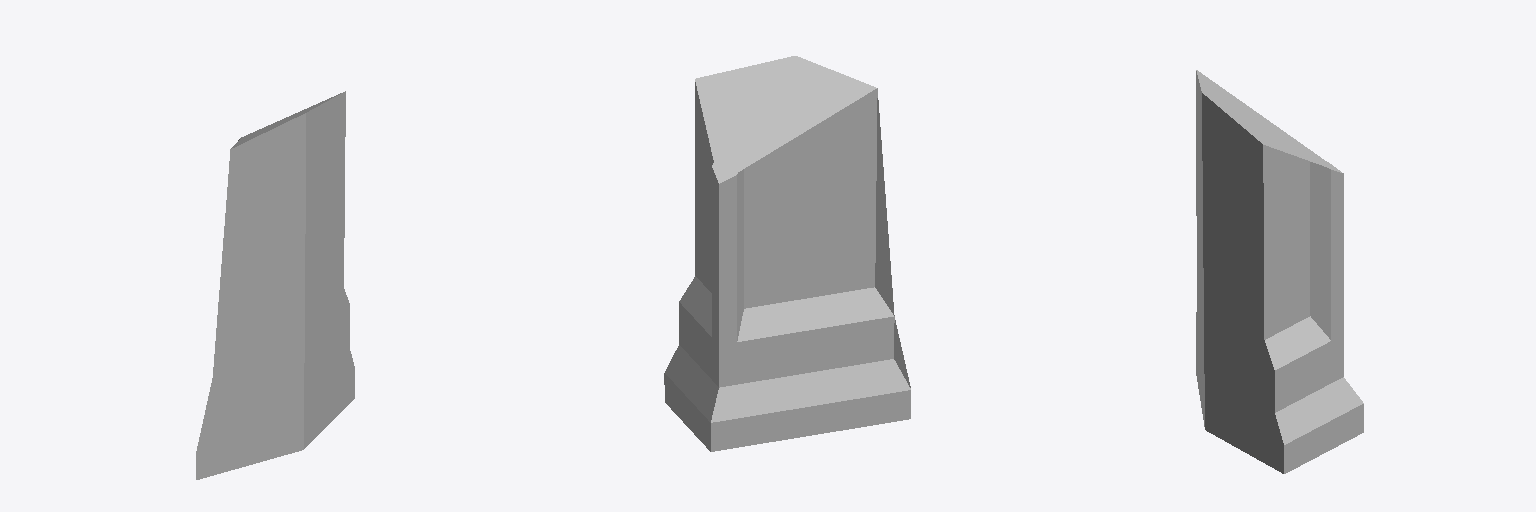
The model's file is Debris15.obj.
The picture shows the model from 3 angles: view 1: azimuth 30°, elevation 25°; view 2: azimuth 150°, elevation 25°; view 3: azimuth 270°, elevation 25°; orthographic projection.
Parts seen in each view (by area): view 1: Debris15; view 2: Debris15; view 3: Debris15.
Part boxes in pixels (bbox=[...]): Debris15: bbox=[196, 91, 354, 479]; Debris15: bbox=[664, 56, 910, 451]; Debris15: bbox=[1196, 70, 1363, 473].
Size of the model in its own units: 3.6 by 5.73 by 2.58.